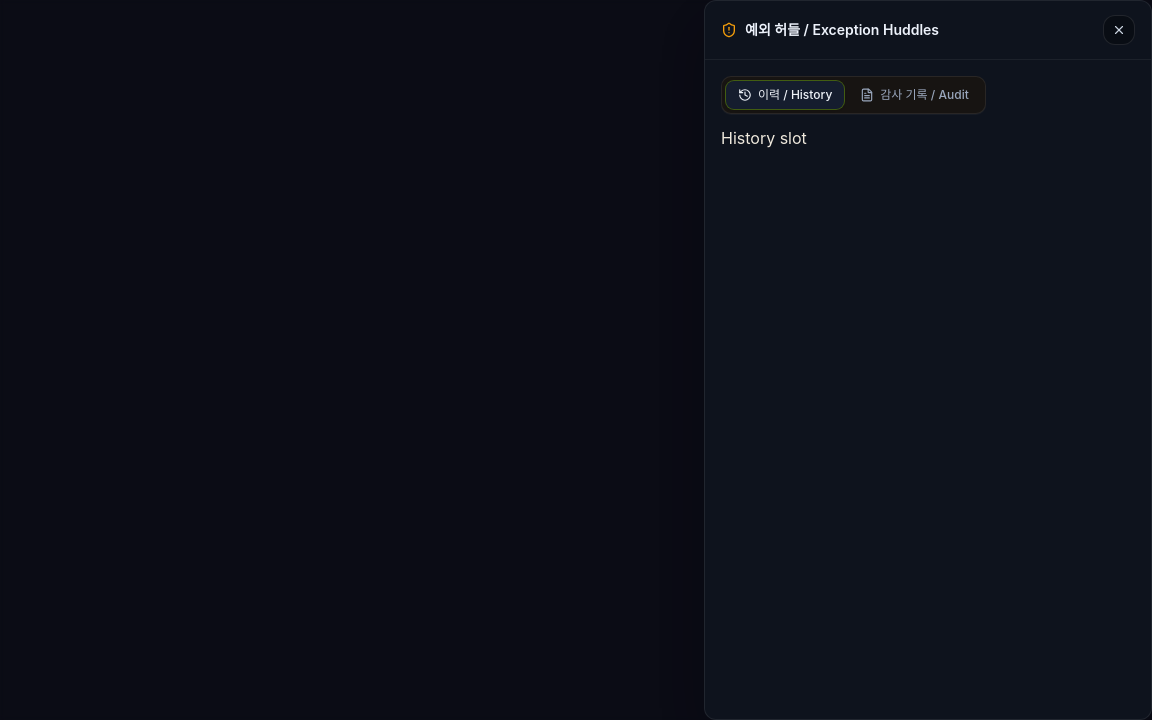
Test: MissionExceptionHuddleDrawer › switches between historySlot and auditSlot with the tab buttons
The image size is (1152, 720).
Step 1. Click the tab "감사 기록 / Audit" → [915, 95], box x1=848 y1=81 x2=981 y2=109
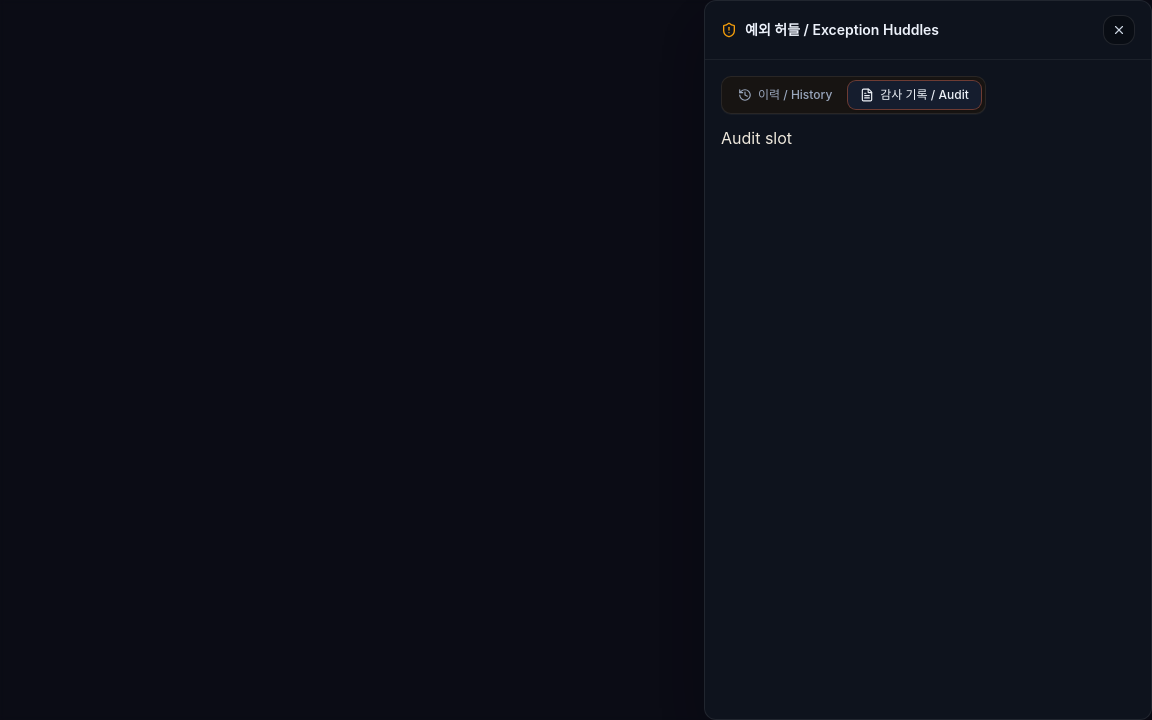
Expected: the text "Audit slot" is shown, x1=721 y1=128 x2=792 y2=148
Expected: the text "History slot" is gone
Step 2. Click the tab "이력 / History" → [785, 95], box x1=726 y1=81 x2=844 y2=109
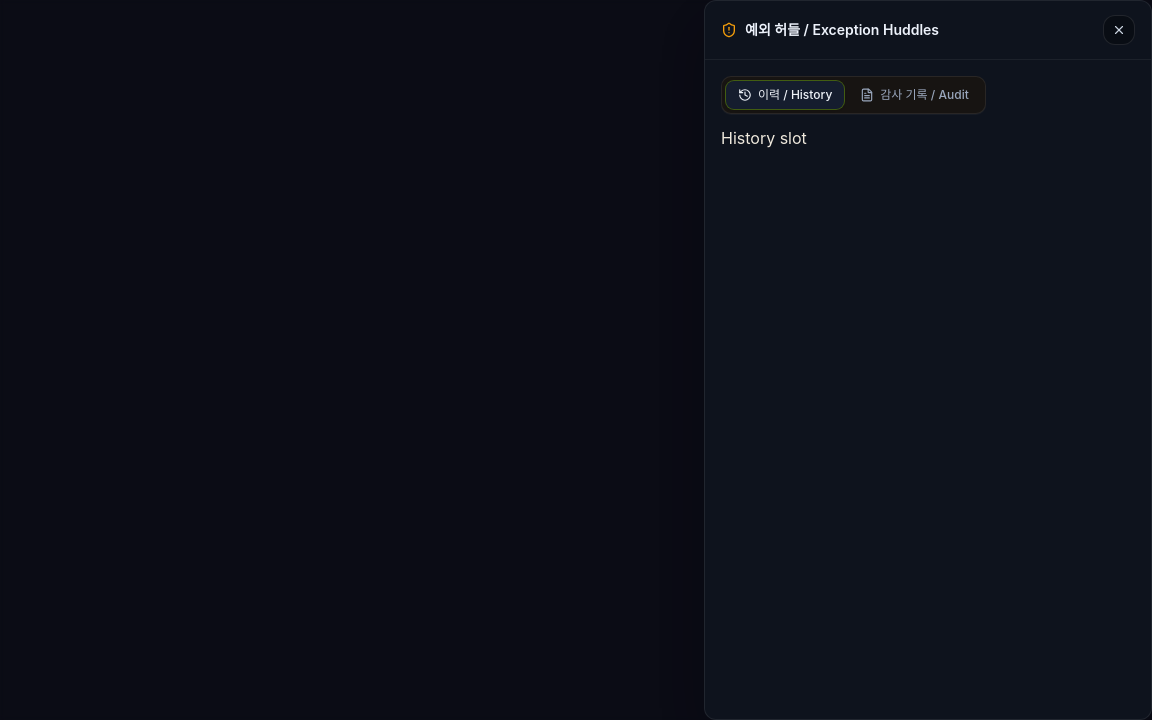
Expected: the text "History slot" is shown, x1=721 y1=128 x2=807 y2=148
Expected: the text "Audit slot" is gone
